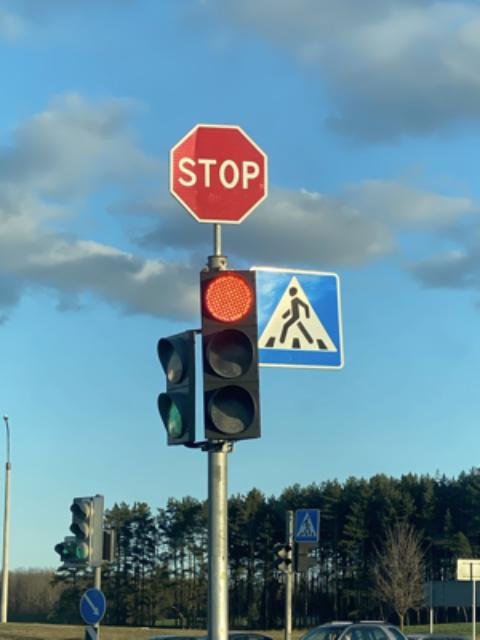crosswalk-sign: (253, 267, 345, 371), (291, 509, 325, 545)
